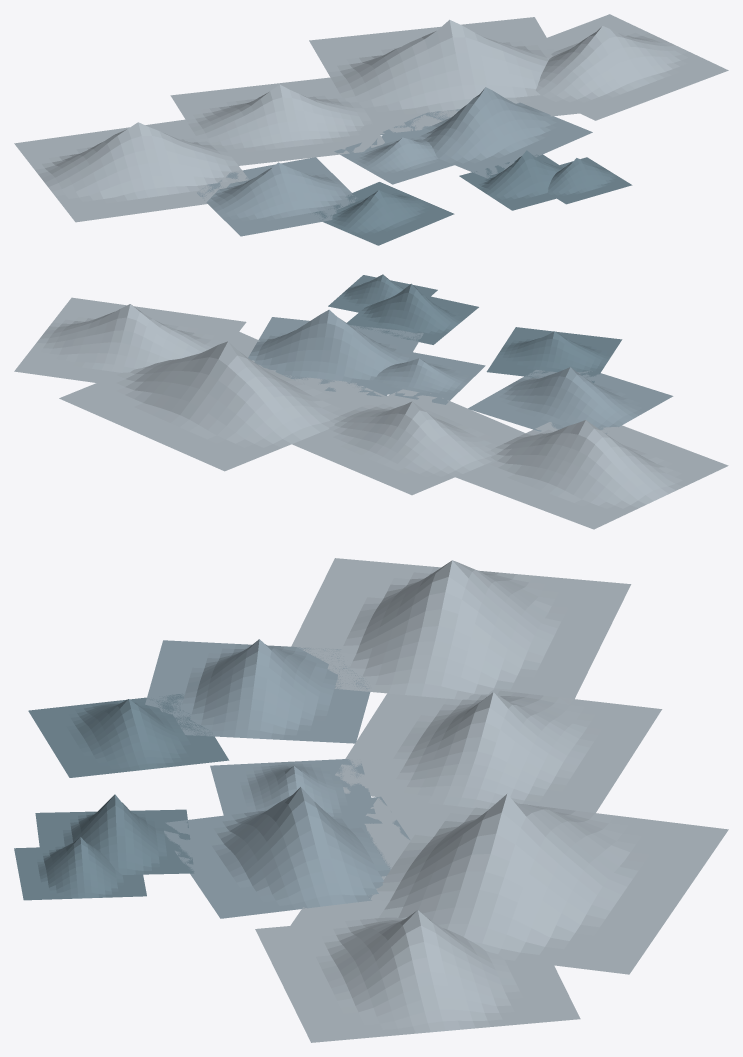
File: mountains.glb
3 views of the same model, one above another, from view 1: azimuth 30°, elevation 25°; view 2: azimuth 150°, elevation 25°; view 3: azimuth 270°, elevation 25° (orthographic). The views are drawn at different scales.
Parts seen in each view (by area): view 1: Mountain_Far_8, Mountain_Far_6, Mountain_Far_7, Mountain_Far_9, Mountain_Mid_5, Mountain_Mid_3, Mountain_Near_0, Mountain_Near_1, Mountain_Mid_4, Mountain_Near_2; view 2: Mountain_Far_8, Mountain_Far_6, Mountain_Far_7, Mountain_Far_9, Mountain_Mid_5, Mountain_Mid_3, Mountain_Near_0, Mountain_Near_1, Mountain_Mid_4, Mountain_Near_2; view 3: Mountain_Far_8, Mountain_Far_6, Mountain_Far_7, Mountain_Far_9, Mountain_Mid_5, Mountain_Mid_3, Mountain_Near_0, Mountain_Near_1, Mountain_Mid_4, Mountain_Near_2.
Part boxes in pixels (box(x1,y1,x2,y2)): Mountain_Far_8: box(309, 17, 589, 135); Mountain_Far_6: box(14, 119, 248, 222); Mountain_Far_7: box(170, 77, 384, 165); Mountain_Far_9: box(526, 14, 728, 120); Mountain_Mid_5: box(380, 87, 592, 178); Mountain_Mid_3: box(197, 157, 357, 236); Mountain_Near_0: box(312, 182, 454, 245); Mountain_Near_1: box(459, 150, 571, 210); Mountain_Mid_4: box(334, 129, 460, 184); Mountain_Near_2: box(547, 157, 632, 204); Mountain_Far_8: box(59, 328, 396, 471); Mountain_Far_6: box(448, 420, 728, 529); Mountain_Far_7: box(292, 389, 525, 495); Mountain_Far_9: box(14, 297, 246, 386); Mountain_Mid_5: box(248, 309, 423, 396); Mountain_Mid_3: box(468, 367, 673, 433); Mountain_Near_0: box(486, 327, 622, 382); Mountain_Near_1: box(347, 283, 478, 344); Mountain_Mid_4: box(355, 351, 485, 404); Mountain_Near_2: box(328, 274, 437, 312); Mountain_Far_8: box(286, 787, 728, 974); Mountain_Far_6: box(291, 558, 631, 705); Mountain_Far_7: box(335, 690, 662, 812); Mountain_Far_9: box(255, 910, 580, 1042); Mountain_Mid_5: box(164, 787, 410, 918); Mountain_Mid_3: box(145, 639, 370, 743); Mountain_Near_0: box(28, 693, 229, 777); Mountain_Near_1: box(35, 794, 194, 874); Mountain_Mid_4: box(210, 759, 375, 823); Mountain_Near_2: box(14, 837, 146, 900).
Size of the model in its own units: 1667 by 140 by 1039.
